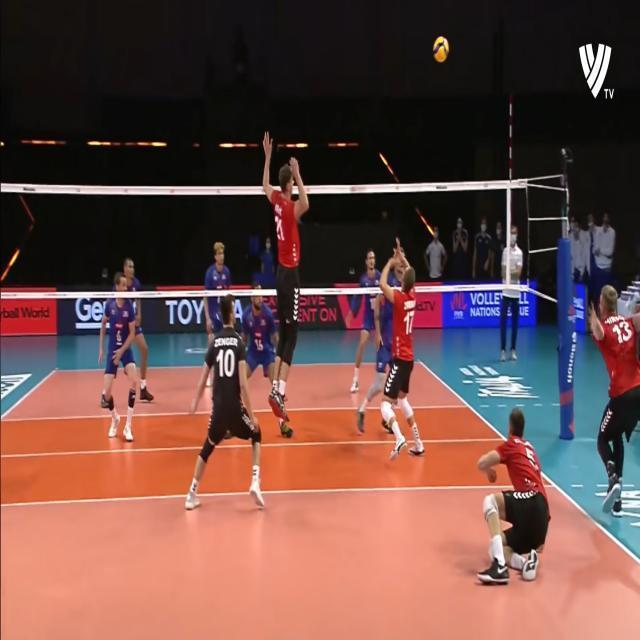volleyball: (433, 36, 449, 62)
